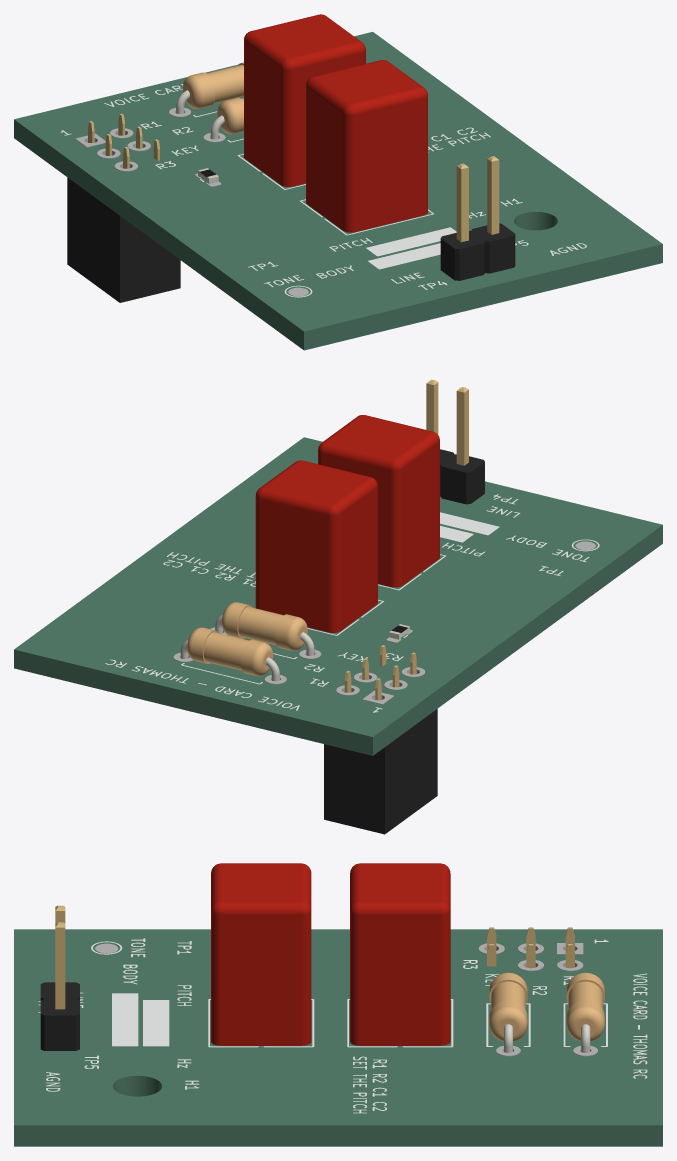
The model's file is voice-thomas.glb.
3 renders of one model, top to bottom at view 1: azimuth 30°, elevation 25°; view 2: azimuth 150°, elevation 25°; view 3: azimuth 270°, elevation 25°, orthographic. The views are drawn at different scales.
Visible parts, largest first — view 1: =>[0:1:1:10], C2, C1, JV1_VISUAL, =>[0:1:1:8], TP4, TP5, R1, =>[0:1:1:7], R2; view 2: =>[0:1:1:10], C1, C2, JV1_VISUAL, =>[0:1:1:8], R1, R2, TP4, =>[0:1:1:7], TP5; view 3: =>[0:1:1:10], C1, C2, =>[0:1:1:8], TP5, R2, R1, =>[0:1:1:7], JV1_VISUAL, TP4.
Boxes of the visible parts, x1,y1,x2,y2 form: =>[0:1:1:10]: (14,32,662,350); C2: (306,60,427,232); C1: (244,14,365,186); JV1_VISUAL: (67,113,180,302); =>[0:1:1:8]: (60,84,586,297); TP4: (440,163,484,280); TP5: (471,156,515,273); R1: (176,62,243,113); =>[0:1:1:7]: (75,107,308,296); R2: (210,97,243,139); =>[0:1:1:10]: (14,437,662,755); C1: (255,460,377,632); C2: (318,415,439,587); JV1_VISUAL: (324,645,437,834); =>[0:1:1:8]: (105,494,599,712); R1: (180,627,279,681); R2: (215,602,314,655); TP4: (440,387,484,504); =>[0:1:1:7]: (173,541,595,704); TP5: (426,379,454,496); =>[0:1:1:10]: (14,929,662,1146); C1: (350,863,450,1045); C2: (211,863,311,1045); =>[0:1:1:8]: (38,938,647,1113); TP5: (40,922,79,1050); R2: (489,972,527,1052); R1: (566,972,604,1052); =>[0:1:1:7]: (95,943,597,1056); JV1_VISUAL: (487,927,574,968); TP4: (40,905,79,1000).
Size of the model in its own units: 0.03 by 0.0202 by 0.042.
